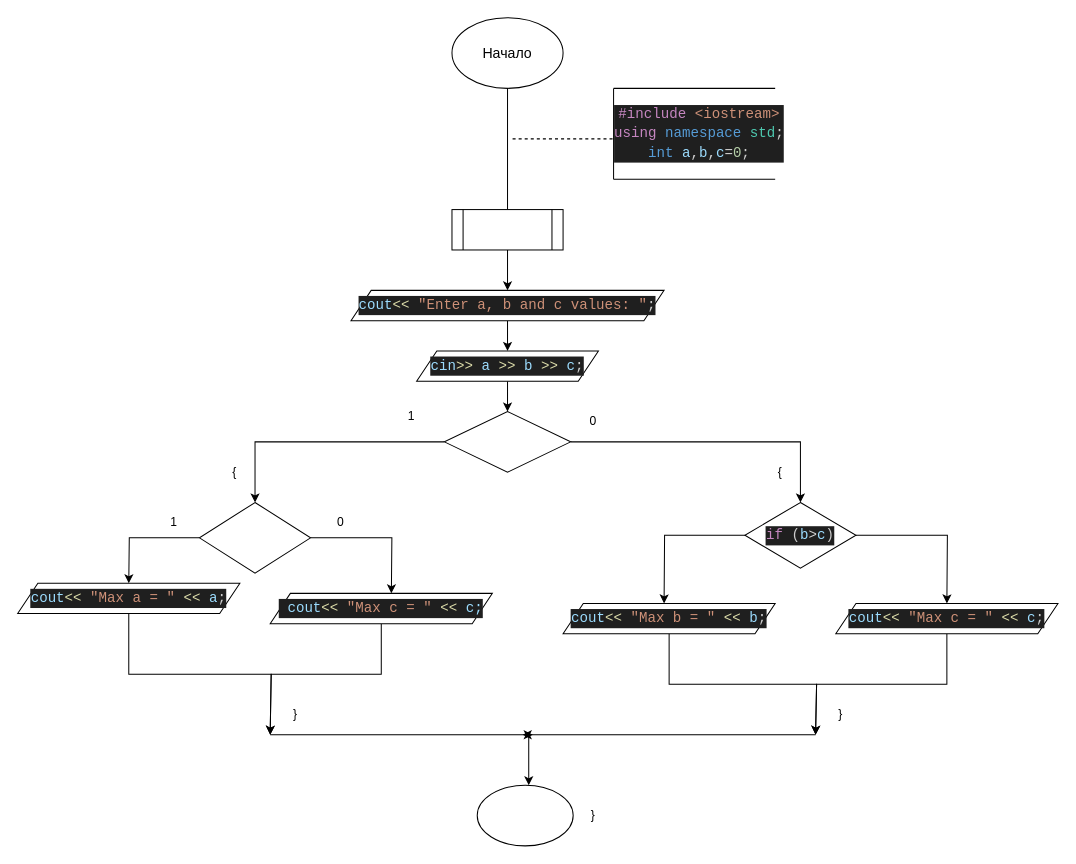
Image size: 1076x864. Some labels were removed from this diagram. Each missing label, with the centre of its shape:
if ( a > b ): the point at 507,441
if ( a > c ): the point at 254,537
int main (): the point at 507,229
return 0 ;: the point at 524,815
